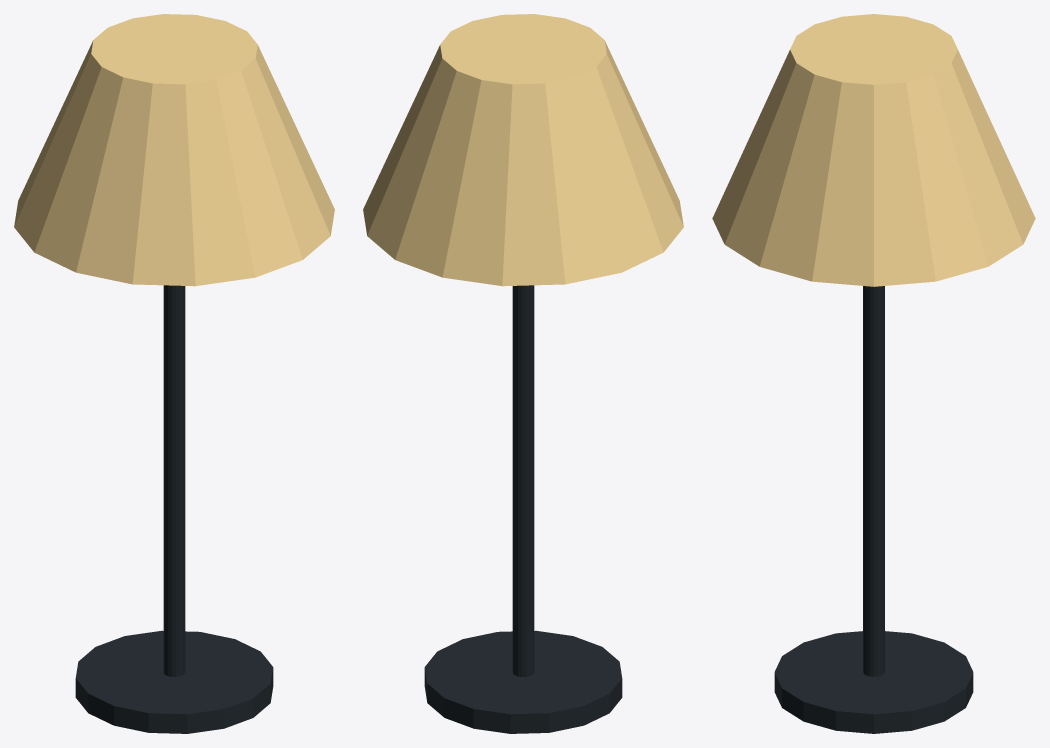
The model's file is lamp.obj.
3 views of the same model, side by side, from view 1: azimuth 30°, elevation 25°; view 2: azimuth 150°, elevation 25°; view 3: azimuth 270°, elevation 25° (orthographic).
Visible parts, largest first — view 1: lamp; view 2: lamp; view 3: lamp.
Boxes of the visible parts, x1,y1,x2,y2 form: lamp: (14, 14, 334, 733); lamp: (363, 14, 683, 733); lamp: (712, 14, 1035, 733).
Size of the model in its own units: 1.04 by 2.28 by 1.04.
